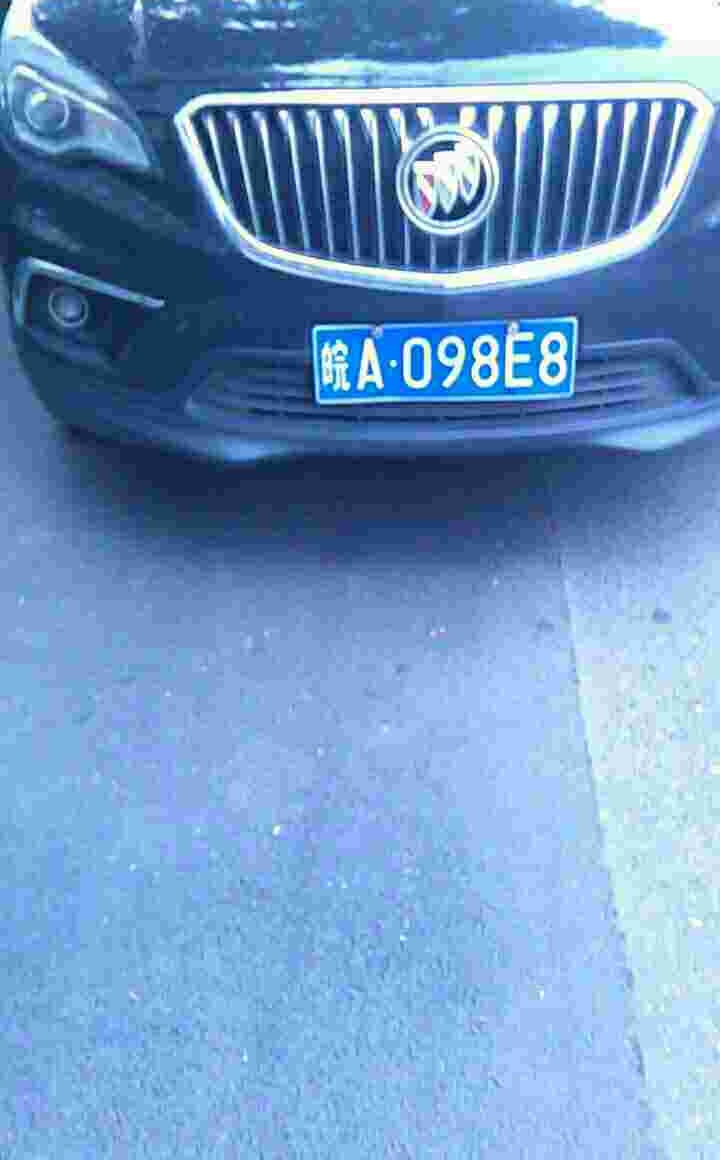car: (307, 322, 577, 406)
